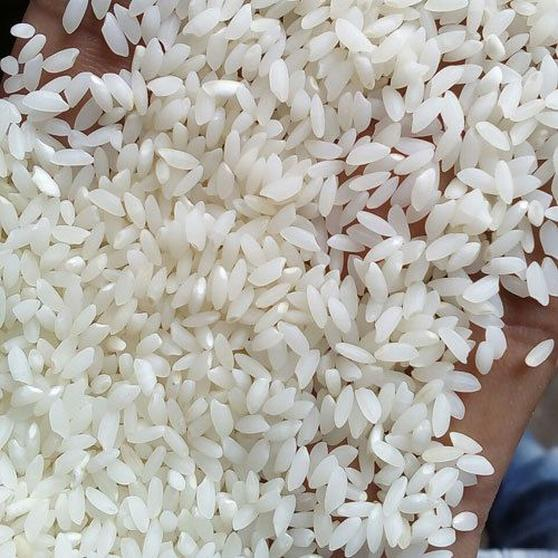rice: (48, 82, 489, 558)
